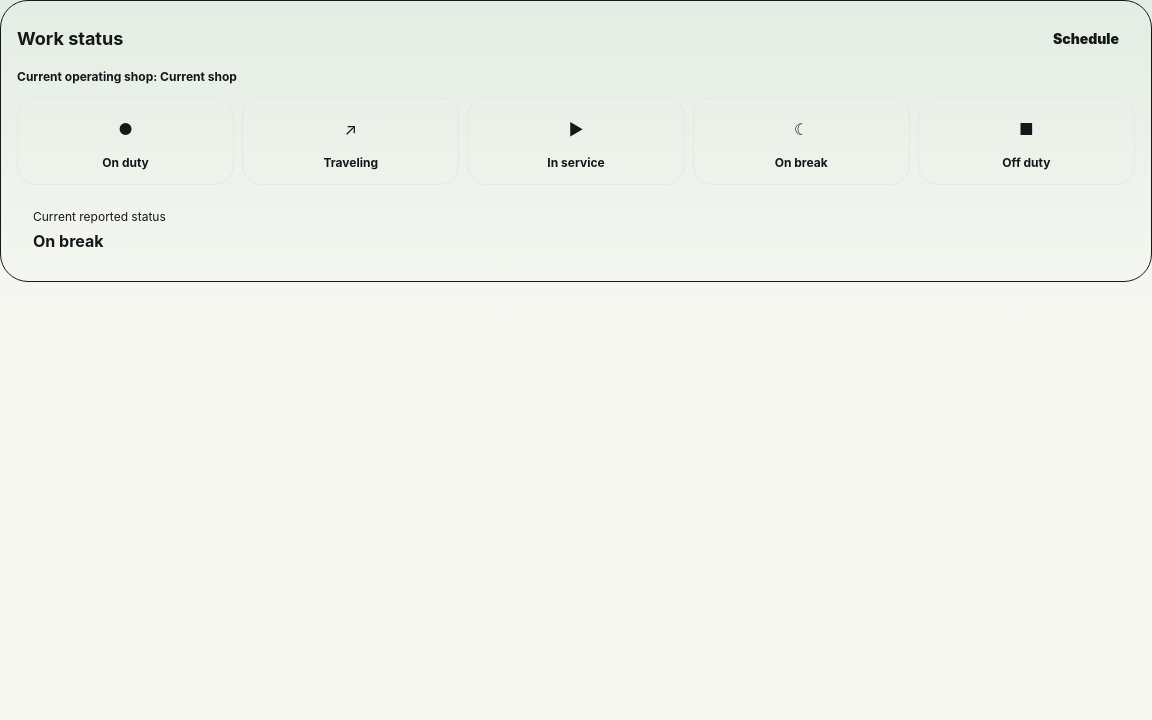
work status submission › shows affected bookings before confirming early departure
Click the button "■ Off duty".
click(1026, 141)  # box [918,97,1135,185]
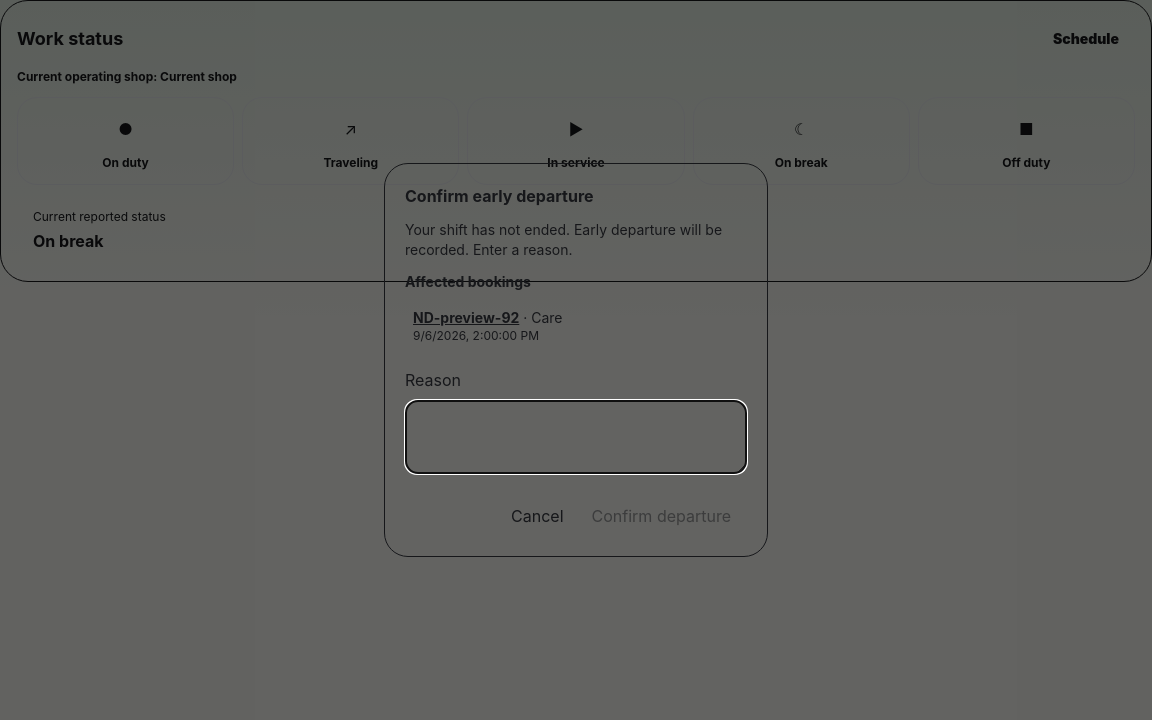
Expected: the dialog shows "ND-preview-92", [413,309,519,326]
